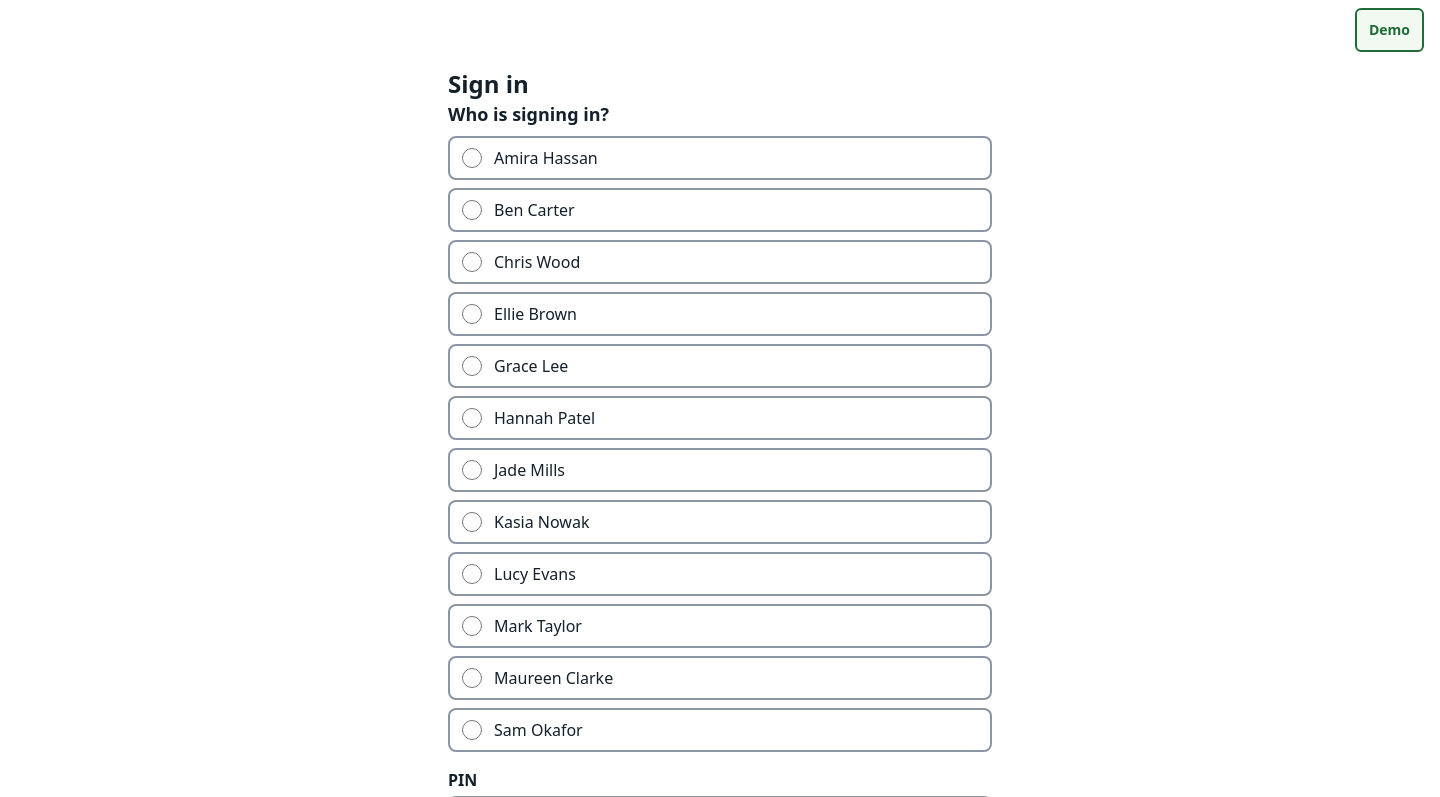
S1 sign in › refuses a wrong PIN with the demo hint and does not switch person
Click the radio button labelled "Hannah Patel" at (472,418), box [462,408,482,428]
(page scrolled)
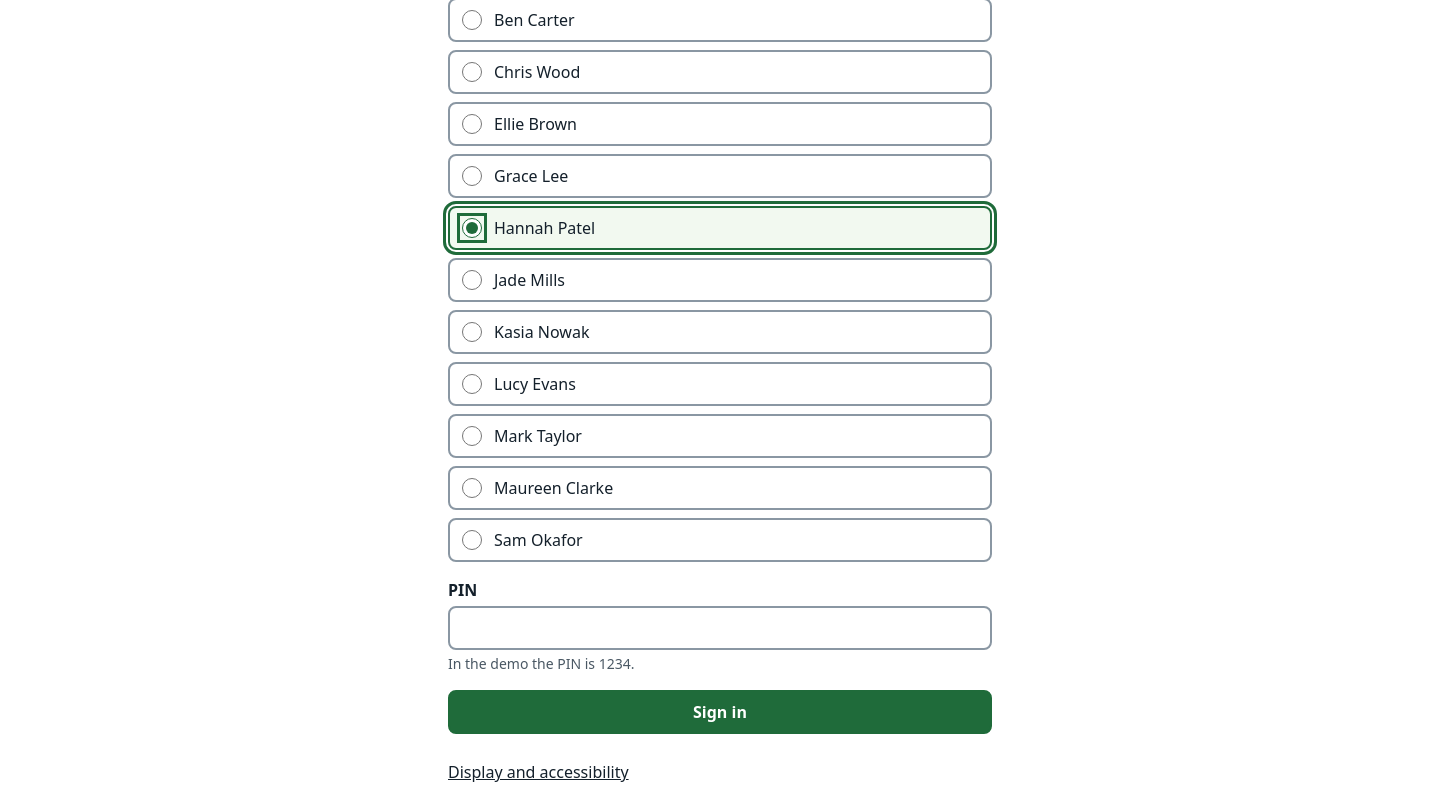
Type "0000" into the password field labelled "PIN" at (720,628), box [448,606,992,650]
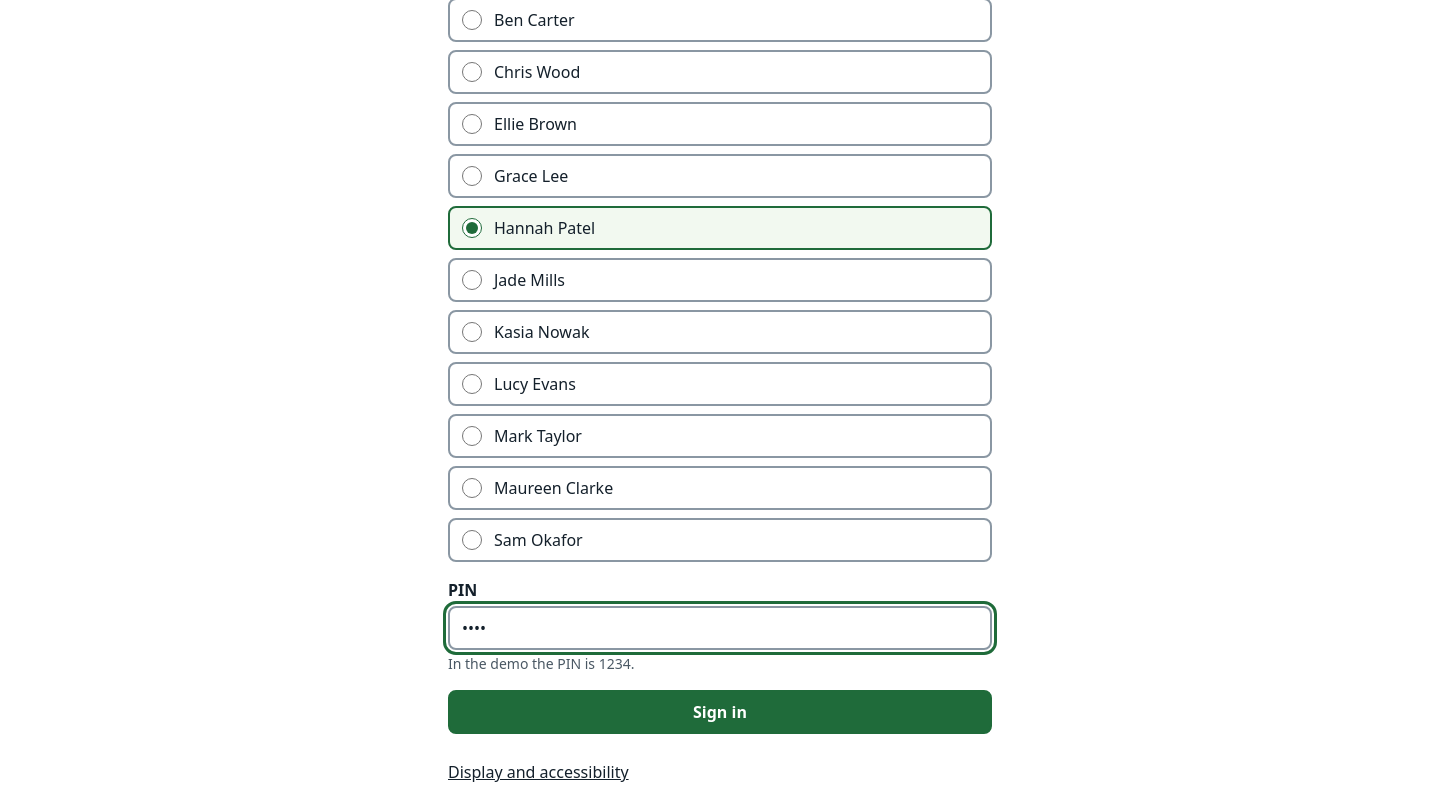
Click the button "Sign in" at (720,712), box [448,690,992,734]
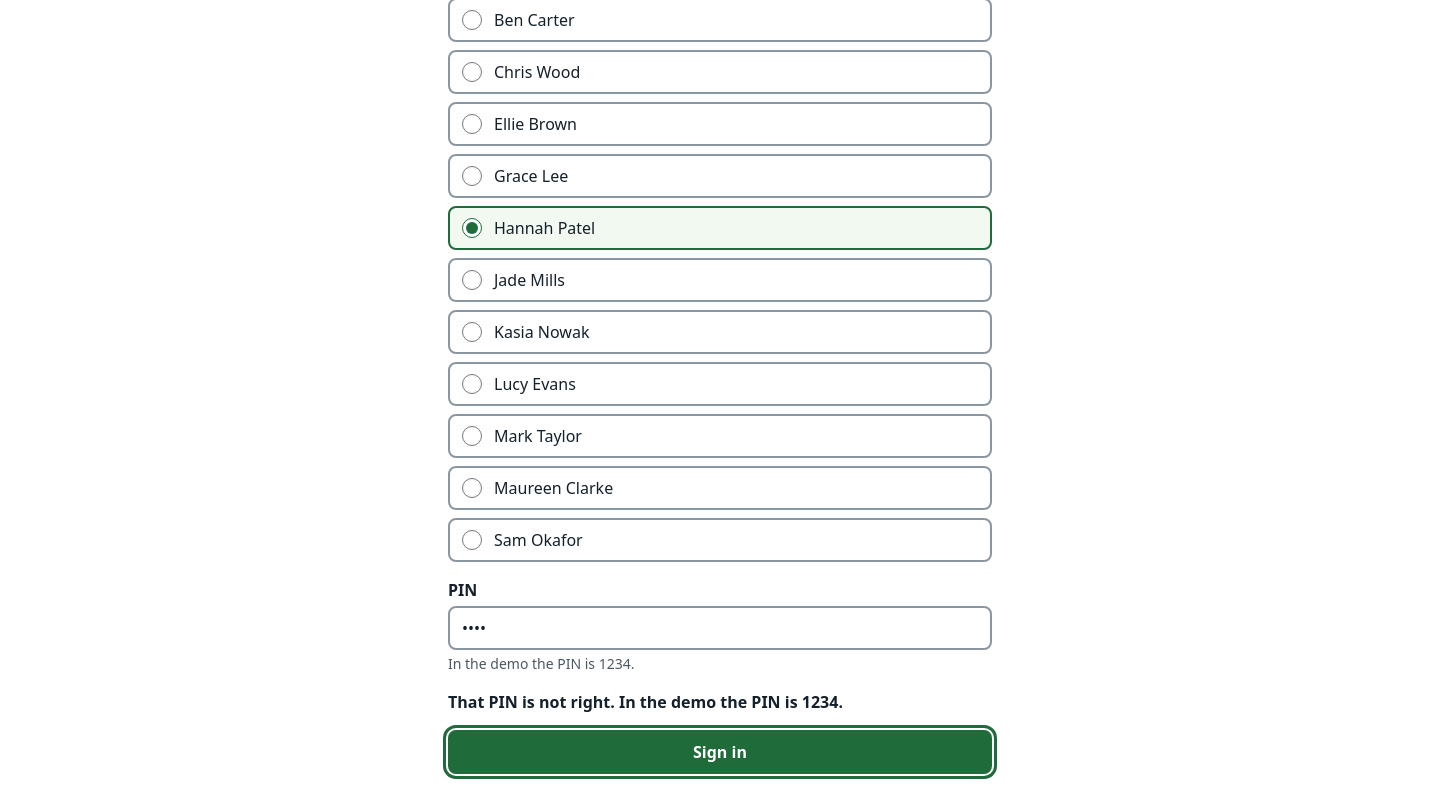
Expected: the text "That PIN is not right. In the demo the PIN is 1234." is shown, [448,691,843,713]
